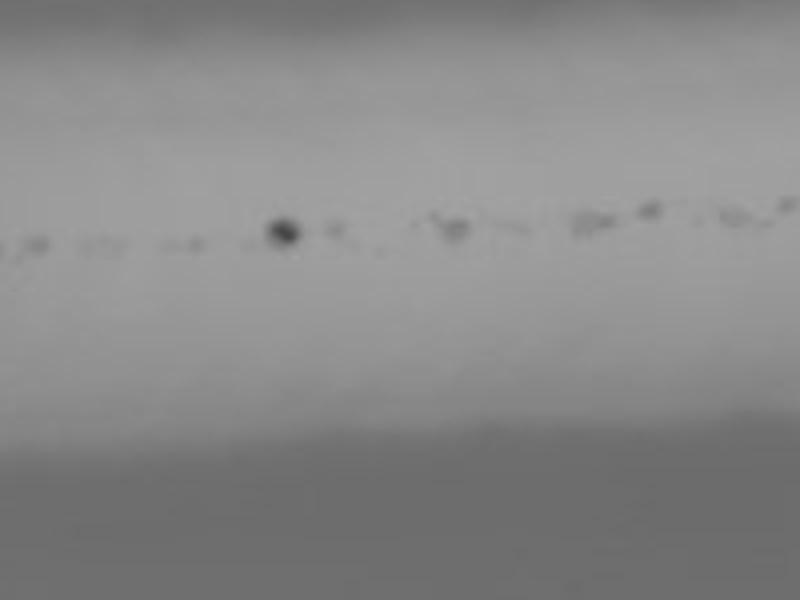defect: (68, 231, 129, 262), (570, 204, 616, 238), (263, 216, 305, 248), (489, 209, 534, 237), (436, 217, 473, 247), (719, 199, 753, 230), (318, 213, 353, 243), (160, 233, 206, 254), (630, 194, 663, 222), (25, 233, 51, 258), (775, 189, 798, 217), (408, 209, 438, 227), (234, 233, 257, 255), (367, 244, 389, 261), (690, 208, 706, 231), (756, 214, 777, 231), (10, 249, 27, 267)
